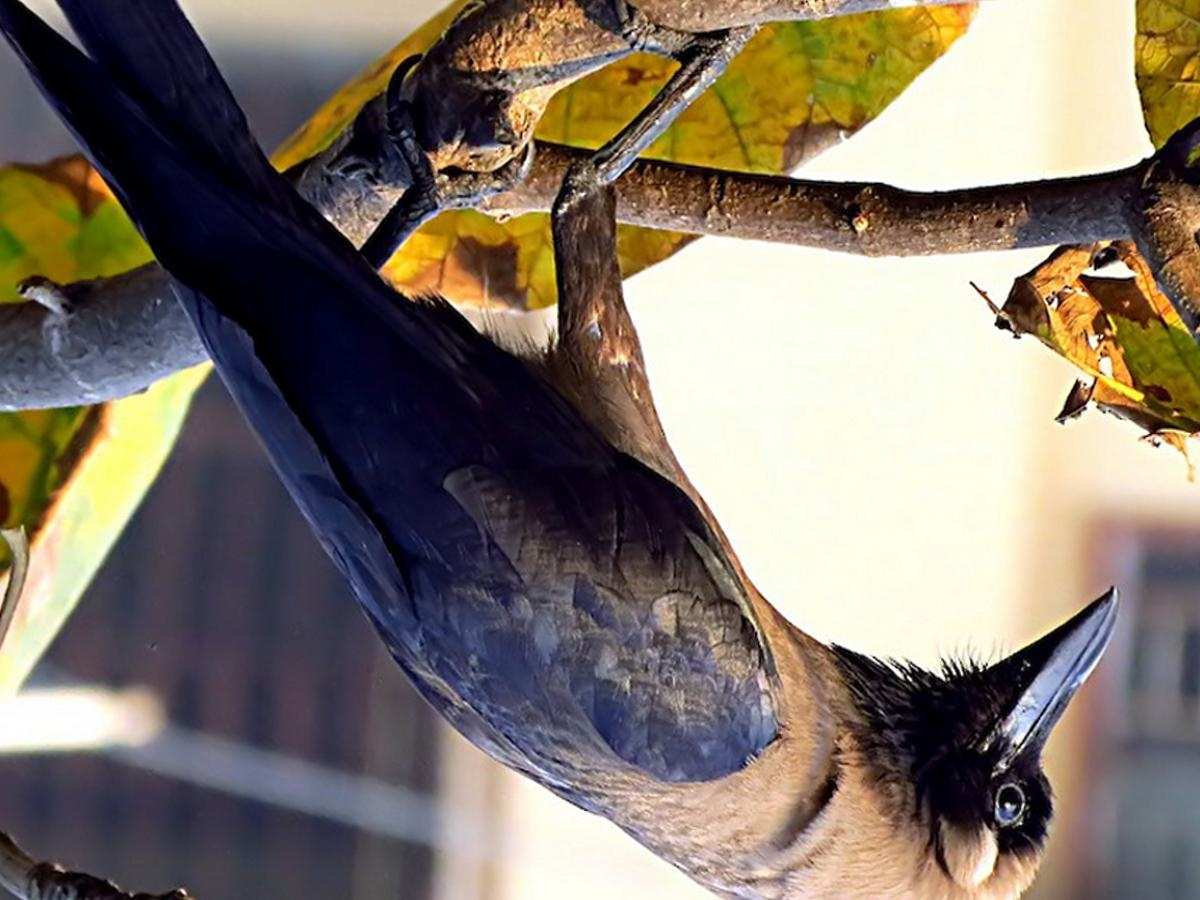crow: (1, 1, 1128, 897)
